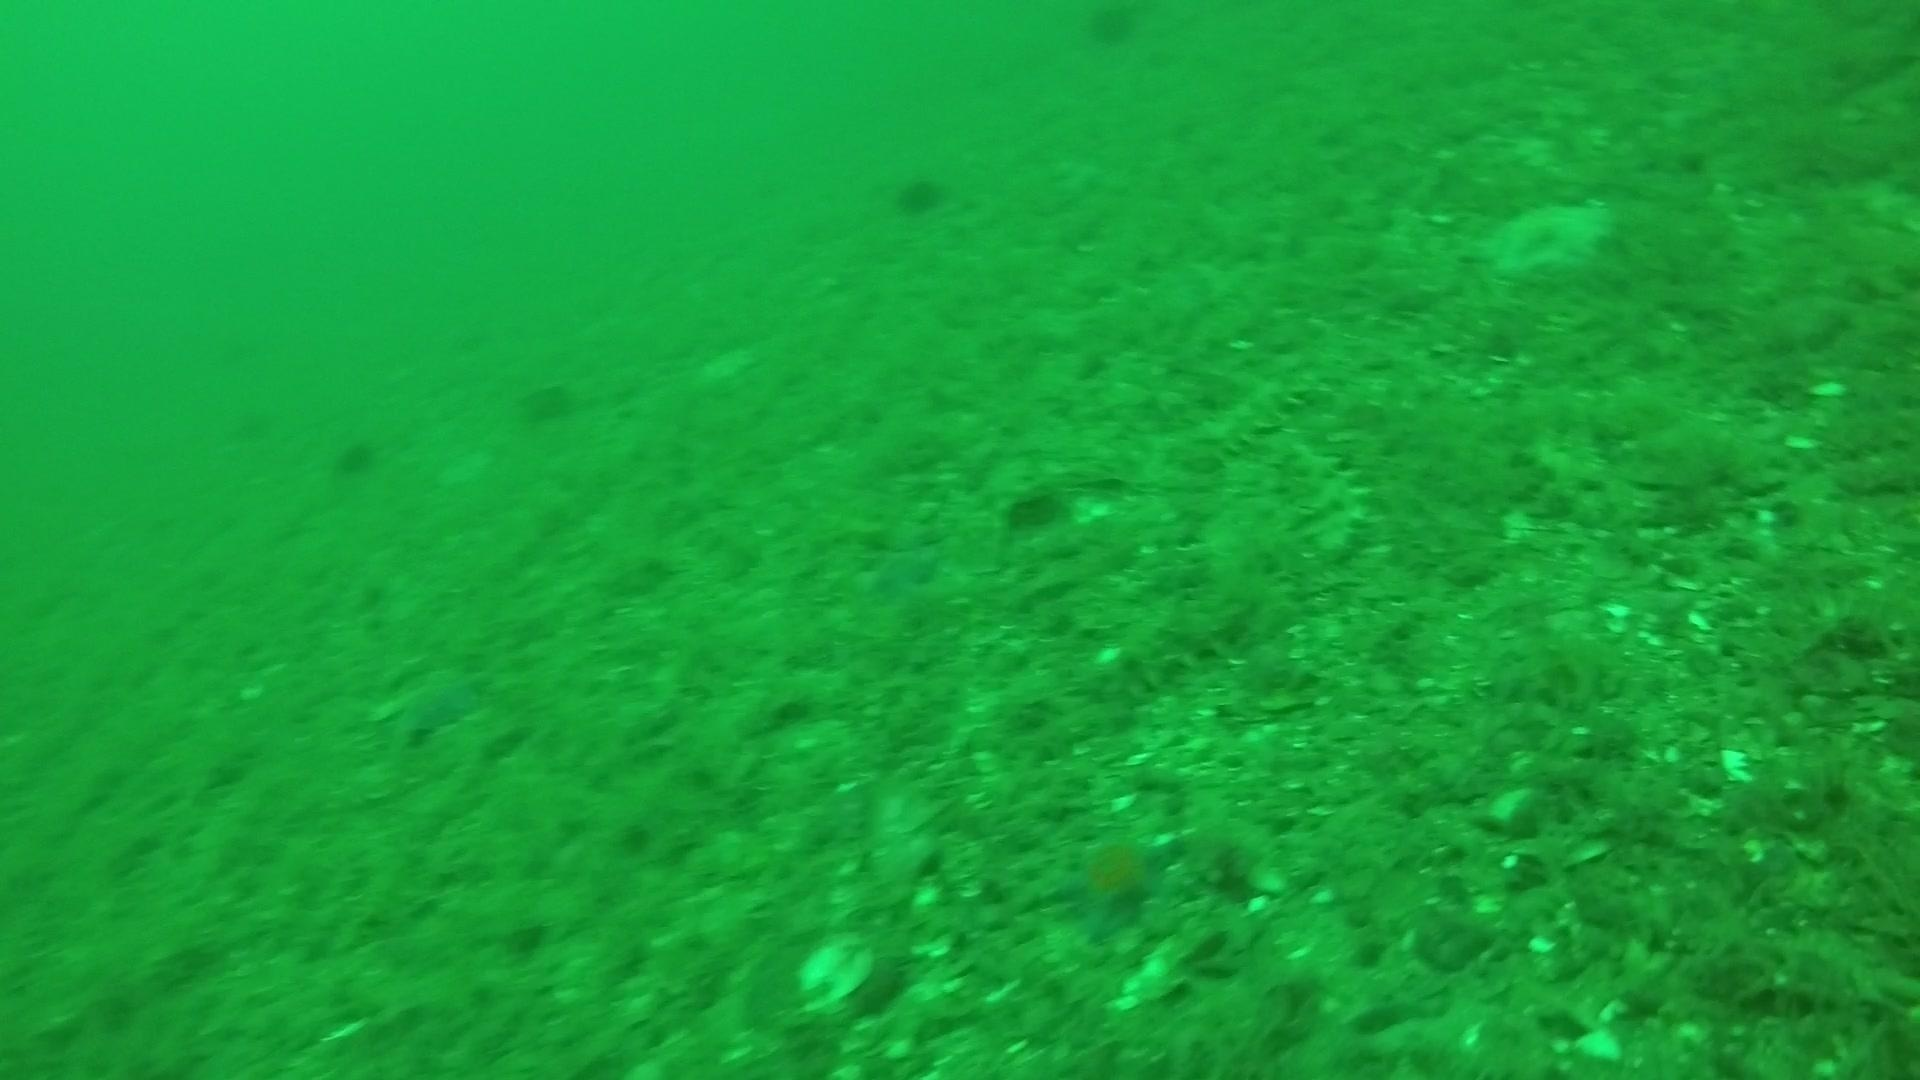echinus: (513, 372, 582, 429), (1077, 1, 1146, 51), (889, 166, 951, 220), (328, 430, 382, 481)
holothurian: (1073, 584, 1254, 715), (1275, 433, 1379, 568), (1191, 364, 1327, 462)
starfish: (1043, 822, 1183, 942), (1469, 190, 1621, 286), (367, 659, 492, 749), (855, 538, 949, 603)
